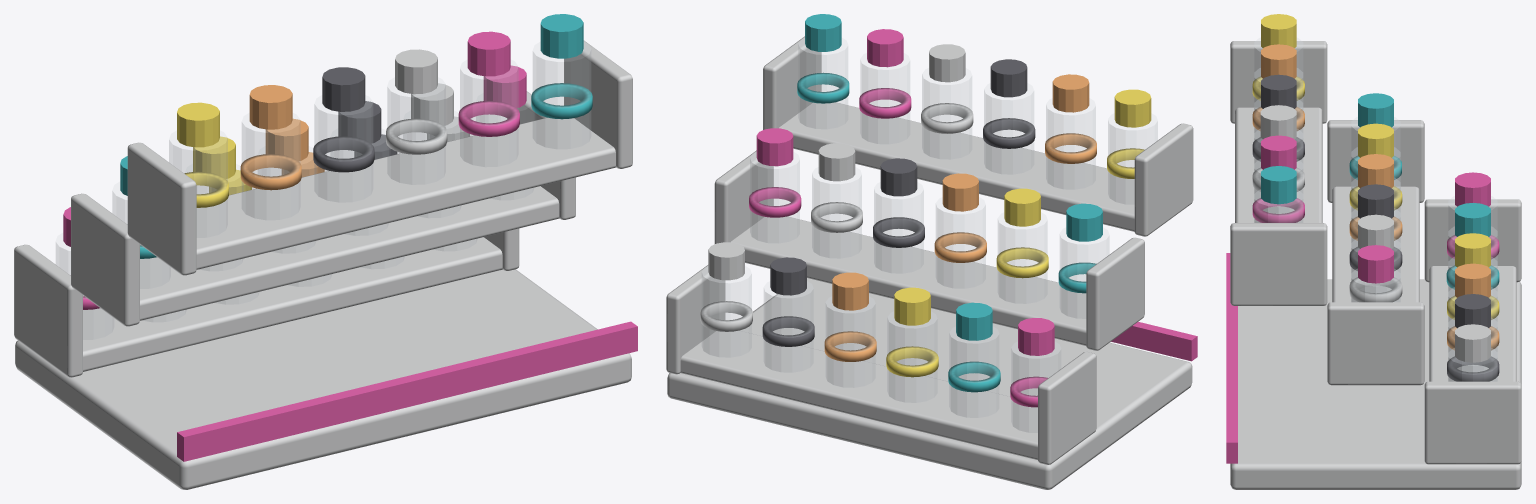
The model's file is tattoo-and-piercing-studio-ink-bottle-rack-dd314947__34523.glb.
The picture shows the model from 3 angles, left to right: view 1: azimuth 30°, elevation 25°; view 2: azimuth 150°, elevation 25°; view 3: azimuth 270°, elevation 25°; orthographic projection. The views are drawn at different scales.
Visible parts, largest first — view 1: ink-bottle-rack; view 2: ink-bottle-rack; view 3: ink-bottle-rack.
Boxes of the visible parts, box(x1,y1,x2,y2) form: ink-bottle-rack: box(14, 14, 637, 489); ink-bottle-rack: box(666, 14, 1197, 489); ink-bottle-rack: box(1226, 14, 1521, 489).
Size of the model in its own units: 0.462 by 0.341 by 0.304.
